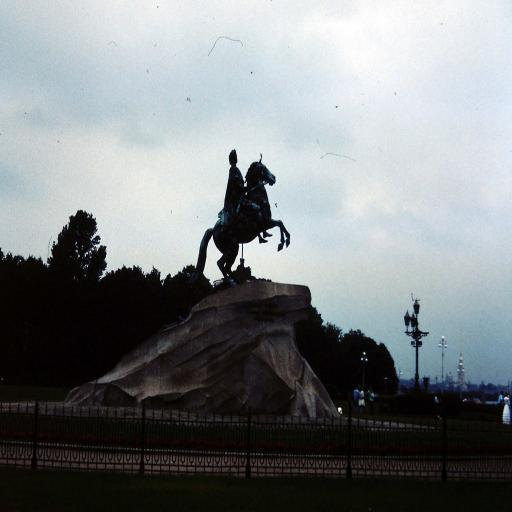Horse: (194, 154, 292, 290)
